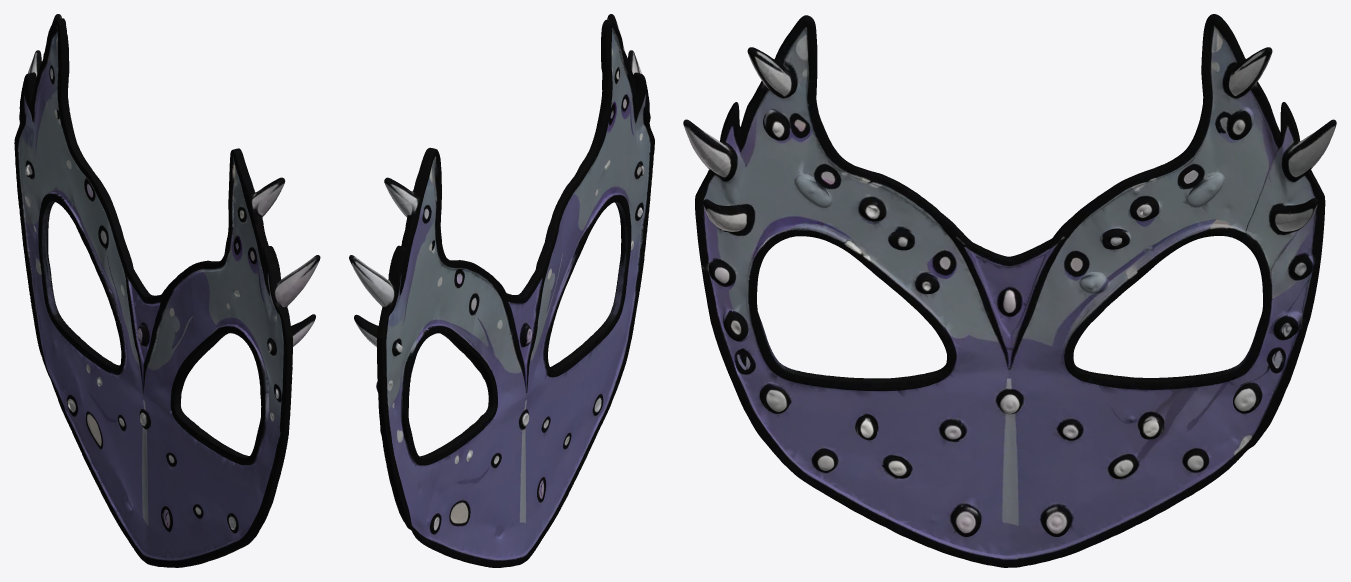
File: 11_006_Mask_Spiked.glb
3 views of the same model, side by side, from view 1: azimuth 30°, elevation 25°; view 2: azimuth 150°, elevation 25°; view 3: azimuth 270°, elevation 25° (orthographic). The views are drawn at different scales.
Visible parts, largest first — view 1: tripo_node_acbc45e8-6bf6-449f-b48e-1e9ed7746acf; view 2: tripo_node_acbc45e8-6bf6-449f-b48e-1e9ed7746acf; view 3: tripo_node_acbc45e8-6bf6-449f-b48e-1e9ed7746acf.
Part boxes in pixels (box(x1,y1,x2,y2)): tripo_node_acbc45e8-6bf6-449f-b48e-1e9ed7746acf: box(14, 14, 320, 567); tripo_node_acbc45e8-6bf6-449f-b48e-1e9ed7746acf: box(349, 14, 654, 567); tripo_node_acbc45e8-6bf6-449f-b48e-1e9ed7746acf: box(683, 14, 1336, 567).
Bounding box in the file's own units: 0.0927 × 0.9322 × 1.
Materials: 1 (1 with a texture image).
